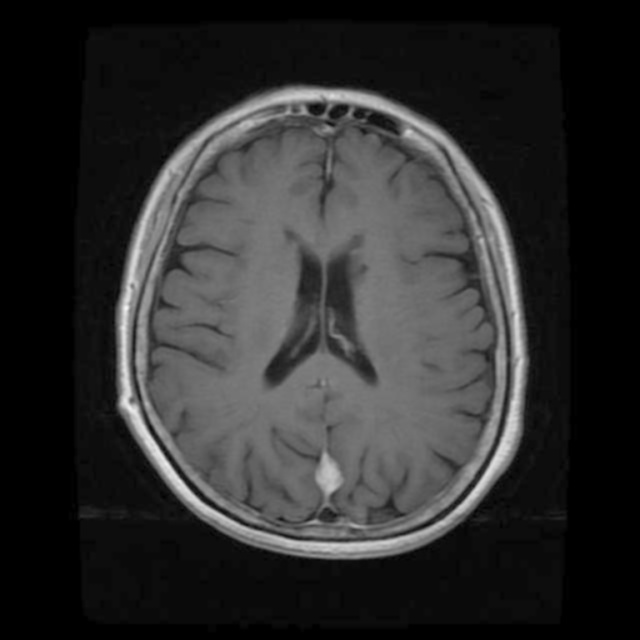no tumor: (310, 443, 358, 508)
